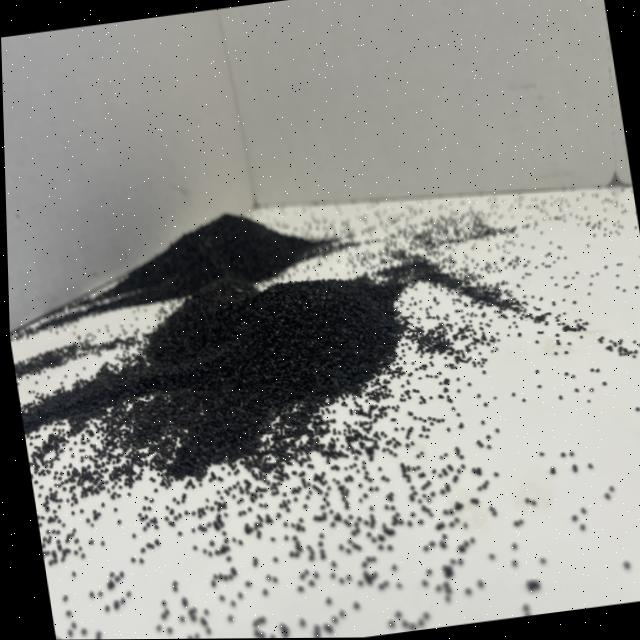Poppy Seeds: (33, 269, 480, 502)
